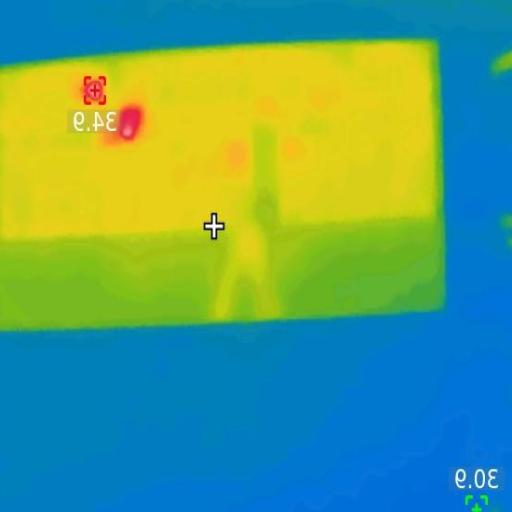hotspot: (118, 111, 140, 140), (84, 82, 100, 100)
